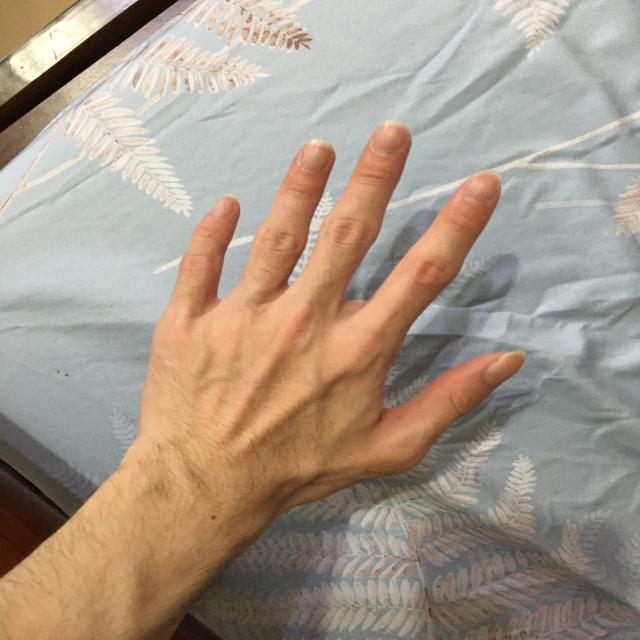no-gloves: (138, 119, 530, 486)
